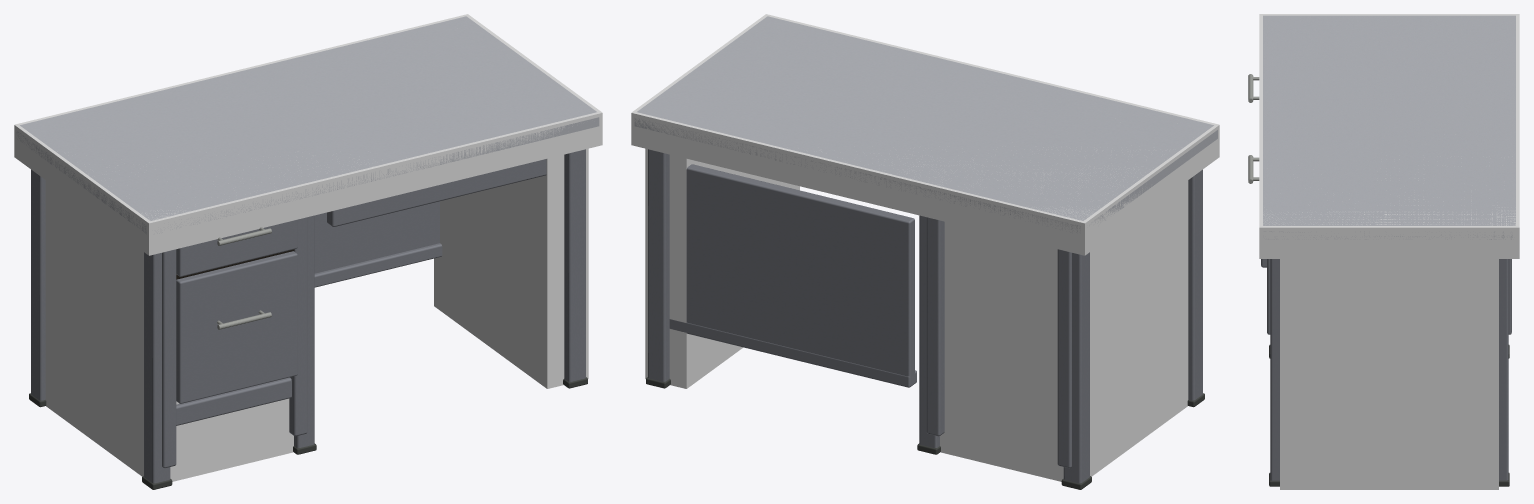
File: desk_basic.glb
3 views of the same model, side by side, from view 1: azimuth 30°, elevation 25°; view 2: azimuth 150°, elevation 25°; view 3: azimuth 270°, elevation 25° (orthographic). The views are drawn at different scales.
Visible parts, largest first — view 1: BATCH_Desktop_Desk_Basic_Surface, COL_Desk_Basic_LeftPedestal, BATCH_Body_Desk_Basic_Body, COL_Desk_Basic_RightSide, COL_Desk_Basic_Desktop, BATCH_Drawer_Left_Bottom_Desk_Basic_Body, BATCH_ModestyPanel_Desk_Basic_Body, BATCH_Drawer_Left_Top_Desk_Basic_Body, BATCH_Hardware_Desk_Basic_WarmCharcoal; view 2: BATCH_Desktop_Desk_Basic_Surface, COL_Desk_Basic_LeftPedestal, BATCH_ModestyPanel_Desk_Basic_Body, COL_Desk_Basic_Desktop, BATCH_Body_Desk_Basic_Body, COL_Desk_Basic_RightSide, BATCH_Hardware_Desk_Basic_WarmCharcoal; view 3: BATCH_Desktop_Desk_Basic_Surface, COL_Desk_Basic_RightSide, COL_Desk_Basic_Desktop, BATCH_Body_Desk_Basic_Body.
Part boxes in pixels (bbox=[...]): BATCH_Desktop_Desk_Basic_Surface: bbox=[16, 16, 599, 234]; COL_Desk_Basic_LeftPedestal: bbox=[45, 180, 293, 481]; BATCH_Body_Desk_Basic_Body: bbox=[31, 149, 585, 483]; COL_Desk_Basic_RightSide: bbox=[434, 148, 588, 388]; COL_Desk_Basic_Desktop: bbox=[14, 14, 602, 255]; BATCH_Drawer_Left_Bottom_Desk_Basic_Body: bbox=[176, 251, 297, 403]; BATCH_ModestyPanel_Desk_Basic_Body: bbox=[314, 201, 442, 287]; BATCH_Drawer_Left_Top_Desk_Basic_Body: bbox=[176, 219, 297, 276]; BATCH_Hardware_Desk_Basic_WarmCharcoal: bbox=[29, 377, 587, 489]; BATCH_Desktop_Desk_Basic_Surface: bbox=[634, 16, 1217, 232]; COL_Desk_Basic_LeftPedestal: bbox=[940, 180, 1188, 481]; BATCH_ModestyPanel_Desk_Basic_Body: bbox=[669, 164, 916, 387]; COL_Desk_Basic_Desktop: bbox=[631, 14, 1219, 255]; BATCH_Body_Desk_Basic_Body: bbox=[648, 149, 1202, 483]; COL_Desk_Basic_RightSide: bbox=[645, 148, 799, 388]; BATCH_Hardware_Desk_Basic_WarmCharcoal: bbox=[646, 377, 1204, 489]; BATCH_Desktop_Desk_Basic_Surface: bbox=[1263, 15, 1515, 239]; COL_Desk_Basic_RightSide: bbox=[1280, 259, 1498, 489]; COL_Desk_Basic_Desktop: bbox=[1259, 14, 1519, 258]; BATCH_Body_Desk_Basic_Body: bbox=[1267, 259, 1511, 480].
Bounding box in the file's own units: 1.32 × 0.76 × 0.7085.
Materials: 6 (3 with a texture image).
